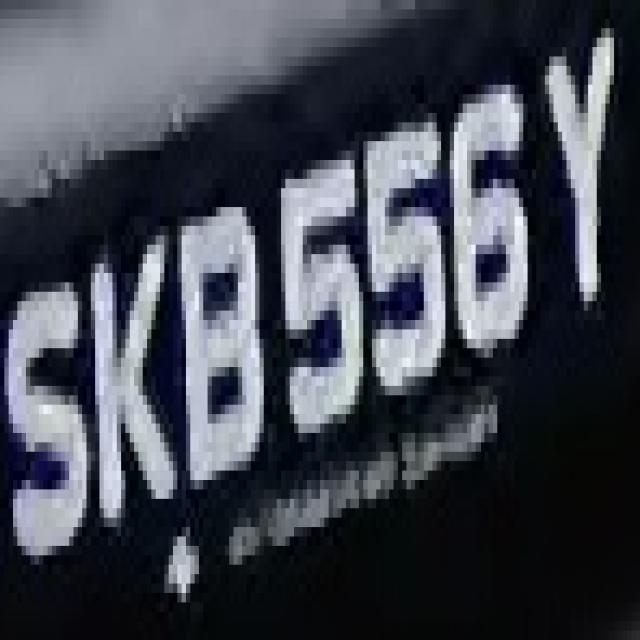5: (281, 132, 372, 461), (359, 104, 450, 414)
6: (437, 57, 536, 367)
B: (182, 207, 276, 537)
K: (69, 226, 173, 565)
S: (9, 235, 90, 612)
Y: (536, 19, 627, 339)
